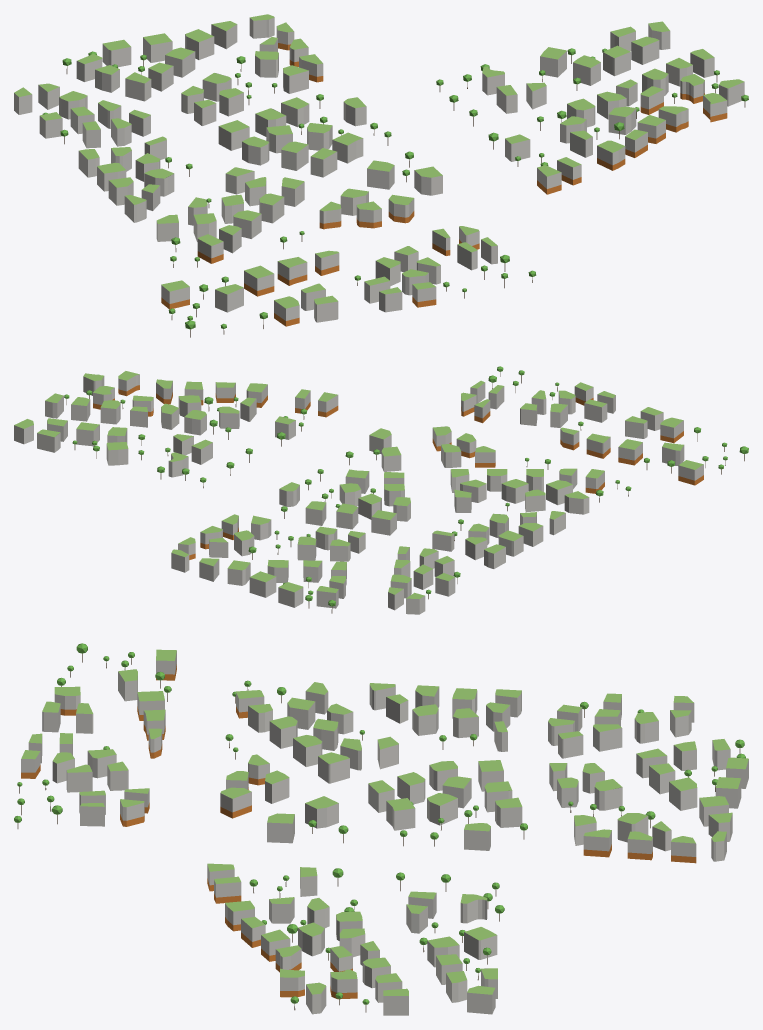
The picture shows the model from 3 angles, top to bottom: view 1: azimuth 30°, elevation 25°; view 2: azimuth 150°, elevation 25°; view 3: azimuth 270°, elevation 25°; orthographic projection. The views are drawn at different scales.
Parts seen in each view (by area): view 1: V5_P3_wohnen, V5_P2_wohnen, V5_P1_wohnen, V5_P4_wohnen, V5_P3_dach, V5_P2_dach, V5_P1_dach, V5_P4_dach, V5_P3_eg, V5_P4_eg, V5_P3_baeume, V5_P2_baeume (+1 smaller); view 2: V5_P3_wohnen, V5_P2_wohnen, V5_P1_wohnen, V5_P4_wohnen, V5_P3_dach, V5_P2_dach, V5_P1_dach, V5_P4_dach, V5_P3_eg, V5_P4_eg, V5_P2_baeume, V5_P3_baeume (+2 smaller); view 3: V5_P3_wohnen, V5_P2_wohnen, V5_P1_wohnen, V5_P3_dach, V5_P4_wohnen, V5_P2_dach, V5_P1_dach, V5_P4_dach, V5_P3_eg, V5_P2_baeume, V5_P3_baeume, V5_P4_baeume (+1 smaller).
Boxes of the visible parts, x1,y1,x2,y2 form: V5_P3_wohnen: (156,53,744,258); V5_P2_wohnen: (78,24,670,222); V5_P1_wohnen: (14,17,323,148); V5_P4_wohnen: (161,227,497,322); V5_P3_dach: (156,49,744,245); V5_P2_dach: (79,21,669,204); V5_P1_dach: (14,14,322,130); V5_P4_dach: (161,226,497,308); V5_P3_eg: (197,93,727,263); V5_P4_eg: (161,239,479,326); V5_P3_baeume: (170,70,748,267); V5_P2_baeume: (165,48,607,176); V5_P3_wohnen: (45,374,604,514); V5_P2_wohnen: (14,421,565,568); V5_P1_wohnen: (171,517,455,614); V5_P4_wohnen: (461,382,703,480); V5_P3_dach: (45,371,604,498); V5_P2_dach: (14,418,565,553); V5_P1_dach: (171,514,454,599); V5_P4_dach: (461,380,703,469); V5_P3_eg: (93,385,604,493); V5_P4_eg: (461,397,703,485); V5_P2_baeume: (72,434,463,540); V5_P3_baeume: (64,374,631,511); V5_P3_wohnen: (207,691,408,1015); V5_P2_wohnen: (368,685,522,1014); V5_P1_wohnen: (548,696,748,861); V5_P3_dach: (207,682,408,995); V5_P4_wohnen: (21,651,176,826); V5_P2_dach: (368,683,522,994); V5_P1_dach: (548,693,748,843); V5_P4_dach: (21,649,176,807); V5_P3_eg: (207,706,357,999); V5_P2_baeume: (396,734,527,980); V5_P3_baeume: (225,680,369,1012); V5_P4_baeume: (14,643,171,828).
Bounding box in the file's own units: 523 × 13.5 × 457.
